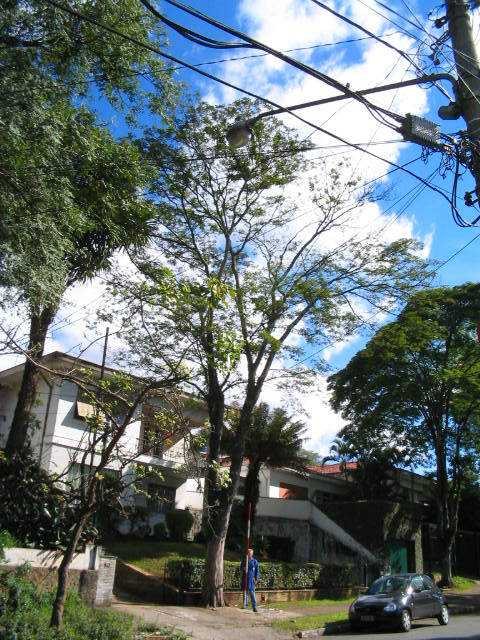crown: (120, 101, 446, 393)
stem: (189, 505, 237, 606)
stick: (240, 500, 255, 608)
tree: (117, 98, 448, 607)
